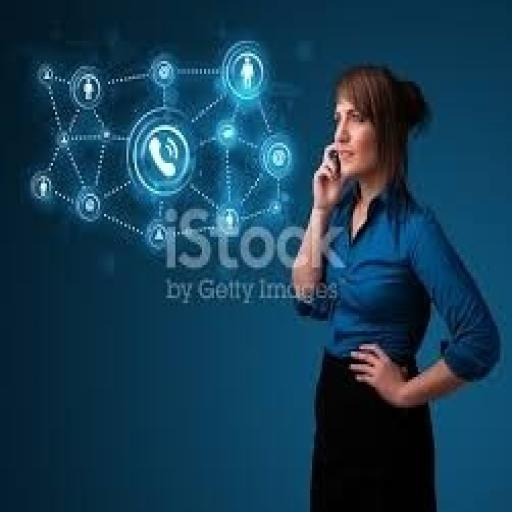calling: (288, 61, 502, 510)
